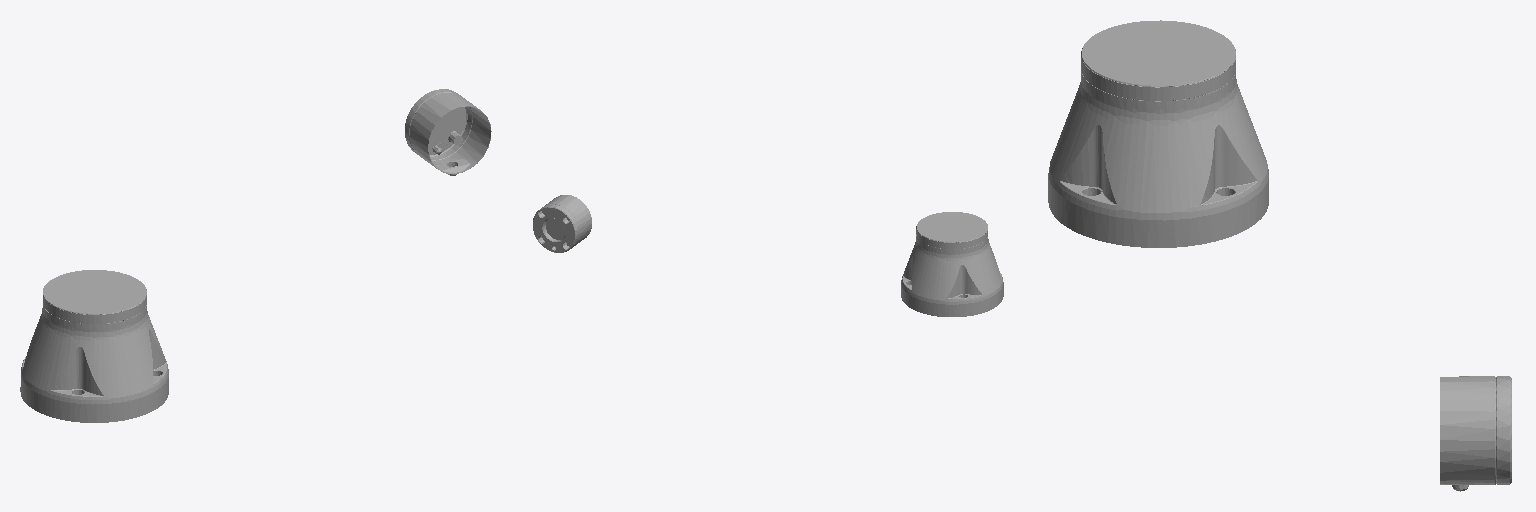
URDF robot description (ur3):
<?xml version="1.0" ?>
<!-- =================================================================================== -->
<!-- |    This document was autogenerated by xacro from ur3_robot.urdf.xacro           | -->
<!-- |    EDITING THIS FILE BY HAND IS NOT RECOMMENDED                                 | -->
<!-- =================================================================================== -->
<robot name="ur3" xmlns:xacro="http://wiki.ros.org/xacro">
  <gazebo>
    <plugin filename="libgazebo_ros_control.so" name="ros_control">
      <!--robotNamespace>/</robotNamespace-->
      <!--robotSimType>gazebo_ros_control/DefaultRobotHWSim</robotSimType-->
    </plugin>
    <!--
    <plugin name="gazebo_ros_power_monitor_controller" filename="libgazebo_ros_power_monitor.so">
      <alwaysOn>true</alwaysOn>
      <updateRate>1.0</updateRate>
      <timeout>5</timeout>
      <powerStateTopic>power_state</powerStateTopic>
      <powerStateRate>10.0</powerStateRate>
      <fullChargeCapacity>87.78</fullChargeCapacity>
      <dischargeRate>-474</dischargeRate>
      <chargeRate>525</chargeRate>
      <dischargeVoltage>15.52</dischargeVoltage>
      <chargeVoltage>16.41</chargeVoltage>
    </plugin>
-->
  </gazebo>
  <!--
  Author: [author]
-->
  <!-- measured from model -->
  <link name="base_link">
    <visual>
      <geometry>
        <mesh filename="package://ur_description/meshes/ur3/visual/base.obj"/>
      </geometry>
      <material name="LightGrey">
        <color rgba="0.7 0.7 0.7 1.0"/>
      </material>
    </visual>
    <collision>
      <geometry>
        <mesh filename="package://ur_description/meshes/ur3/collision/base.stl"/>
      </geometry>
    </collision>
    <inertial>
      <mass value="2.0"/>
      <origin rpy="0 0 0" xyz="0.0 0.0 0.0"/>
      <inertia ixx="0.0030531654454" ixy="0.0" ixz="0.0" iyy="0.0030531654454" iyz="0.0" izz="0.005625"/>
    </inertial>
  </link>
  <joint name="shoulder_pan_joint" type="revolute">
    <parent link="base_link"/>
    <child link="shoulder_link"/>
    <origin rpy="0.0 0.0 0.0" xyz="0.0 0.0 0.1519"/>
    <axis xyz="0 1 0"/>
    <limit effort="330.0" lower="-6.28318530718" upper="6.28318530718" velocity="2.16"/>
    <dynamics damping="0.0" friction="0.0"/>
  </joint>
  <link name="shoulder_link">
    <visual>
      <geometry>
        <mesh filename="package://ur_description/meshes/ur3/visual/shoulder.obj"/>
      </geometry>
      <material name="LightGrey">
        <color rgba="0.7 0.7 0.7 1.0"/>
      </material>
    </visual>
    <collision>
      <geometry>
        <mesh filename="package://ur_description/meshes/ur3/collision/shoulder.stl"/>
      </geometry>
    </collision>
    <inertial>
      <mass value="2.0"/>
      <origin rpy="0 0 0" xyz="0.0 0.0 0.0"/>
      <inertia ixx="0.0080931634294" ixy="0.0" ixz="0.0" iyy="0.0080931634294" iyz="0.0" izz="0.005625"/>
    </inertial>
  </link>
  <joint name="shoulder_lift_joint" type="revolute">
    <parent link="shoulder_link"/>
    <child link="upper_arm_link"/>
    <origin rpy="0.0 1.57079632679 0.0" xyz="0.0 0.1198 0.0"/>
    <axis xyz="0 1 0"/>
    <limit effort="330.0" lower="-6.28318530718" upper="6.28318530718" velocity="2.16"/>
    <dynamics damping="0.0" friction="0.0"/>
  </joint>
  <link name="upper_arm_link">
    <visual>
      <geometry>
        <mesh filename="package://ur_description/meshes/ur3/visual/upperarm.obj"/>
      </geometry>
      <material name="LightGrey">
        <color rgba="0.7 0.7 0.7 1.0"/>
      </material>
    </visual>
    <collision>
      <geometry>
        <mesh filename="package://ur_description/meshes/ur3/collision/upperarm.stl"/>
      </geometry>
    </collision>
    <inertial>
      <mass value="3.42"/>
      <origin rpy="0 0 0" xyz="0.0 0.0 0.121825"/>
      <inertia ixx="0.0217284832211" ixy="0.0" ixz="0.0" iyy="0.0217284832211" iyz="0.0" izz="0.00961875"/>
    </inertial>
  </link>
  <joint name="elbow_joint" type="revolute">
    <parent link="upper_arm_link"/>
    <child link="forearm_link"/>
    <origin rpy="0.0 0.0 0.0" xyz="0.0 -0.0925 0.24365"/>
    <axis xyz="0 1 0"/>
    <limit effort="150.0" lower="-3.14159265359" upper="3.14159265359" velocity="3.15"/>
    <dynamics damping="0.0" friction="0.0"/>
  </joint>
  <link name="forearm_link">
    <visual>
      <geometry>
        <mesh filename="package://ur_description/meshes/ur3/visual/forearm.obj"/>
      </geometry>
      <material name="LightGrey">
        <color rgba="0.7 0.7 0.7 1.0"/>
      </material>
    </visual>
    <collision>
      <geometry>
        <mesh filename="package://ur_description/meshes/ur3/collision/forearm.stl"/>
      </geometry>
    </collision>
    <inertial>
      <mass value="1.26"/>
      <origin rpy="0 0 0" xyz="0.0 0.0 0.106625"/>
      <inertia ixx="0.00654680644378" ixy="0.0" ixz="0.0" iyy="0.00654680644378" iyz="0.0" izz="0.00354375"/>
    </inertial>
  </link>
  <joint name="wrist_1_joint" type="revolute">
    <parent link="forearm_link"/>
    <child link="wrist_1_link"/>
    <origin rpy="0.0 1.57079632679 0.0" xyz="0.0 0.0 0.21325"/>
    <axis xyz="0 1 0"/>
    <limit effort="54.0" lower="-6.28318530718" upper="6.28318530718" velocity="3.2"/>
    <dynamics damping="0.0" friction="0.0"/>
  </joint>
  <link name="wrist_1_link">
    <visual>
      <geometry>
        <mesh filename="package://ur_description/meshes/ur3/visual/wrist1.obj"/>
      </geometry>
      <material name="LightGrey">
        <color rgba="0.7 0.7 0.7 1.0"/>
      </material>
    </visual>
    <collision>
      <geometry>
        <mesh filename="package://ur_description/meshes/ur3/collision/wrist1.stl"/>
      </geometry>
    </collision>
    <inertial>
      <mass value="0.8"/>
      <origin rpy="0 0 0" xyz="0.0 0.0 0.0"/>
      <inertia ixx="0.002084999166" ixy="0.0" ixz="0.0" iyy="0.002084999166" iyz="0.0" izz="0.00225"/>
    </inertial>
  </link>
  <joint name="wrist_2_joint" type="revolute">
    <parent link="wrist_1_link"/>
    <child link="wrist_2_link"/>
    <origin rpy="0.0 0.0 0.0" xyz="0.0 0.08505 0.0"/>
    <axis xyz="0 0 1"/>
    <limit effort="54.0" lower="-6.28318530718" upper="6.28318530718" velocity="3.2"/>
    <dynamics damping="0.0" friction="0.0"/>
  </joint>
  <link name="wrist_2_link">
    <visual>
      <geometry>
        <mesh filename="package://ur_description/meshes/ur3/visual/wrist2.obj"/>
      </geometry>
      <material name="LightGrey">
        <color rgba="0.7 0.7 0.7 1.0"/>
      </material>
    </visual>
    <collision>
      <geometry>
        <mesh filename="package://ur_description/meshes/ur3/collision/wrist2.stl"/>
      </geometry>
    </collision>
    <inertial>
      <mass value="0.8"/>
      <origin rpy="0 0 0" xyz="0.0 0.0 0.0"/>
      <inertia ixx="0.002084999166" ixy="0.0" ixz="0.0" iyy="0.002084999166" iyz="0.0" izz="0.00225"/>
    </inertial>
  </link>
  <joint name="wrist_3_joint" type="revolute">
    <parent link="wrist_2_link"/>
    <child link="wrist_3_link"/>
    <origin rpy="0.0 0.0 0.0" xyz="0.0 0.0 0.08535"/>
    <axis xyz="0 1 0"/>
    <limit effort="54.0" lower="-6.28318530718" upper="6.28318530718" velocity="3.2"/>
    <dynamics damping="0.0" friction="0.0"/>
  </joint>
  <link name="wrist_3_link">
    <visual>
      <geometry>
        <mesh filename="package://ur_description/meshes/ur3/visual/wrist3.obj"/>
      </geometry>
      <material name="LightGrey">
        <color rgba="0.7 0.7 0.7 1.0"/>
      </material>
    </visual>
    <collision>
      <geometry>
        <mesh filename="package://ur_description/meshes/ur3/collision/wrist3.stl"/>
      </geometry>
    </collision>
    <inertial>
      <mass value="0.35"/>
      <origin rpy="0 0 0" xyz="0.0 0.0 0.0"/>
      <inertia ixx="0.000912187135125" ixy="0.0" ixz="0.0" iyy="0.000912187135125" iyz="0.0" izz="0.000984375"/>
    </inertial>
  </link>
  <joint name="ee_fixed_joint" type="fixed">
    <parent link="wrist_3_link"/>
    <child link="ee_link"/>
    <origin rpy="0.0 0.0 1.57079632679" xyz="0.0 0.0819 0.0"/>
  </joint>
  <link name="ee_link">
    <collision>
      <geometry>
        <box size="0.01 0.01 0.01"/>
      </geometry>
      <origin rpy="0 0 0" xyz="-0.01 0 0"/>
    </collision>
  </link>
  <transmission name="shoulder_pan_trans">
    <type>transmission_interface/SimpleTransmission</type>
    <joint name="shoulder_pan_joint">
      <hardwareInterface>hardware_interface/PositionJointInterface</hardwareInterface>
    </joint>
    <actuator name="shoulder_pan_motor">
      <mechanicalReduction>1</mechanicalReduction>
    </actuator>
  </transmission>
  <transmission name="shoulder_lift_trans">
    <type>transmission_interface/SimpleTransmission</type>
    <joint name="shoulder_lift_joint">
      <hardwareInterface>hardware_interface/PositionJointInterface</hardwareInterface>
    </joint>
    <actuator name="shoulder_lift_motor">
      <mechanicalReduction>1</mechanicalReduction>
    </actuator>
  </transmission>
  <transmission name="elbow_trans">
    <type>transmission_interface/SimpleTransmission</type>
    <joint name="elbow_joint">
      <hardwareInterface>hardware_interface/PositionJointInterface</hardwareInterface>
    </joint>
    <actuator name="elbow_motor">
      <mechanicalReduction>1</mechanicalReduction>
    </actuator>
  </transmission>
  <transmission name="wrist_1_trans">
    <type>transmission_interface/SimpleTransmission</type>
    <joint name="wrist_1_joint">
      <hardwareInterface>hardware_interface/PositionJointInterface</hardwareInterface>
    </joint>
    <actuator name="wrist_1_motor">
      <mechanicalReduction>1</mechanicalReduction>
    </actuator>
  </transmission>
  <transmission name="wrist_2_trans">
    <type>transmission_interface/SimpleTransmission</type>
    <joint name="wrist_2_joint">
      <hardwareInterface>hardware_interface/PositionJointInterface</hardwareInterface>
    </joint>
    <actuator name="wrist_2_motor">
      <mechanicalReduction>1</mechanicalReduction>
    </actuator>
  </transmission>
  <transmission name="wrist_3_trans">
    <type>transmission_interface/SimpleTransmission</type>
    <joint name="wrist_3_joint">
      <hardwareInterface>hardware_interface/PositionJointInterface</hardwareInterface>
    </joint>
    <actuator name="wrist_3_motor">
      <mechanicalReduction>1</mechanicalReduction>
    </actuator>
  </transmission>
  <gazebo reference="shoulder_link">
    <selfCollide>true</selfCollide>
  </gazebo>
  <gazebo reference="upper_arm_link">
    <selfCollide>true</selfCollide>
  </gazebo>
  <gazebo reference="forearm_link">
    <selfCollide>true</selfCollide>
  </gazebo>
  <gazebo reference="wrist_1_link">
    <selfCollide>true</selfCollide>
  </gazebo>
  <gazebo reference="wrist_3_link">
    <selfCollide>true</selfCollide>
  </gazebo>
  <gazebo reference="wrist_2_link">
    <selfCollide>true</selfCollide>
  </gazebo>
  <gazebo reference="ee_link">
    <selfCollide>true</selfCollide>
  </gazebo>
  <!-- ROS base_link to UR 'Base' Coordinates transform -->
  <link name="base"/>
  <joint name="base_link-base_fixed_joint" type="fixed">
    <!-- NOTE: this rotation is only needed as long as base_link itself is
                 not corrected wrt the real robot (ie: rotated over 180
                 degrees)
      -->
    <origin rpy="0 0 -3.14159265359" xyz="0 0 0"/>
    <parent link="base_link"/>
    <child link="base"/>
  </joint>
  <!-- Frame coincident with all-zeros TCP on UR controller -->
  <link name="tool0"/>
  <joint name="wrist_3_link-tool0_fixed_joint" type="fixed">
    <origin rpy="-1.57079632679 0 0" xyz="0 0.0819 0"/>
    <parent link="wrist_3_link"/>
    <child link="tool0"/>
  </joint>
  <link name="world"/>
  <joint name="world_joint" type="fixed">
    <parent link="world"/>
    <child link="base_link"/>
    <origin rpy="0.0 0.0 0.0" xyz="0.0 0.0 0.0"/>
  </joint>
</robot>

--- Render facts (derived) ---
The picture shows the robot from 3 angles, left to right: view 1: azimuth 30°, elevation 25°; view 2: azimuth 150°, elevation 25°; view 3: azimuth 270°, elevation 25°; orthographic projection.
Robot: ur3 — 11 links, 10 joints (6 revolute, 4 fixed); root link world; default pose: every joint at zero.
Visible links, largest first — view 1: base_link, wrist_3_link; view 2: base_link, wrist_3_link; view 3: base_link, wrist_3_link.
Link boxes in pixels (x1,y1,x2,y2): base_link: [20, 270, 168, 422]; wrist_3_link: [405, 89, 491, 175]; base_link: [901, 212, 1003, 316]; wrist_3_link: [533, 195, 591, 252]; base_link: [1048, 20, 1268, 247]; wrist_3_link: [1440, 376, 1511, 491].
Size in the robot's own frame: 0.5524 by 0.2686 by 0.0982 metres.
Meshes: 7 distinct files referenced, 2 mesh visuals loaded (2 OBJ); not drawn: 5 (reference not matched to a file when rendering).